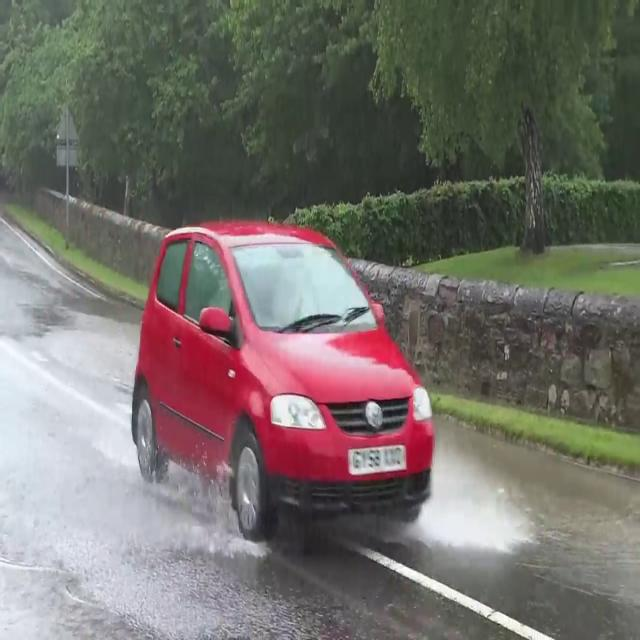license-plate-annotation: (346, 443, 409, 475)
